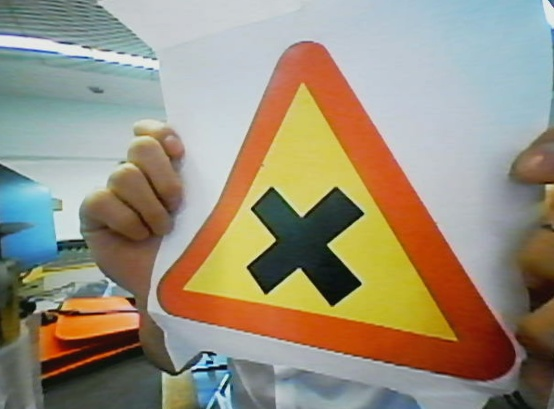junction: (148, 37, 533, 378)
